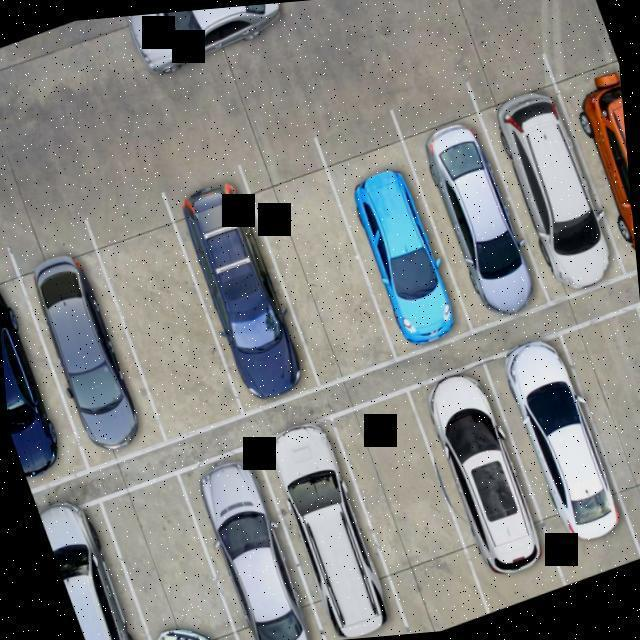car: (398, 95, 554, 331), (10, 227, 166, 462), (472, 68, 622, 296), (481, 331, 624, 565), (166, 172, 310, 402), (318, 128, 462, 356), (255, 414, 400, 638), (407, 364, 546, 584), (176, 441, 326, 640), (97, 468, 242, 640), (0, 263, 93, 497), (549, 53, 637, 279), (37, 487, 163, 640)
free: (94, 198, 241, 446), (240, 143, 392, 380), (334, 382, 480, 604), (563, 312, 640, 545)
